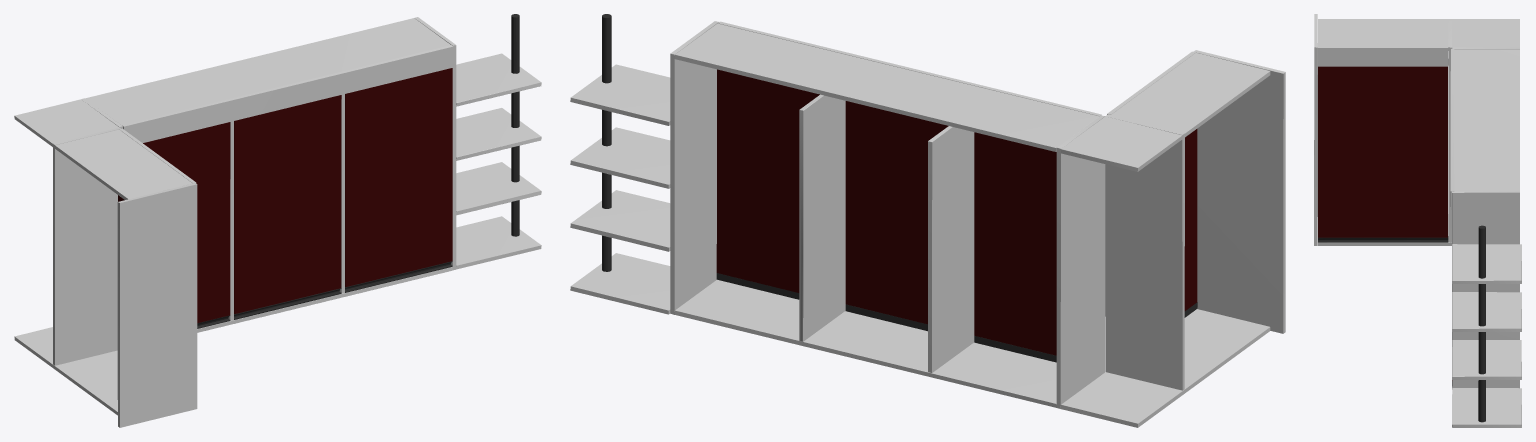
The model's file is Kitchen furniture 1.FBX.
3 views of the same model, side by side, from view 1: azimuth 30°, elevation 25°; view 2: azimuth 150°, elevation 25°; view 3: azimuth 270°, elevation 25° (orthographic). The views are drawn at different scales.
Parts seen in each view (by area): view 1: Kitchen furniture 1; view 2: Kitchen furniture 1; view 3: Kitchen furniture 1.
Boxes of the visible parts, x1,y1,x2,y2 form: Kitchen furniture 1: (14, 14, 541, 427); Kitchen furniture 1: (570, 14, 1285, 427); Kitchen furniture 1: (1314, 14, 1521, 427).
Size of the model in its own units: 106 by 45.67 by 43.31.
